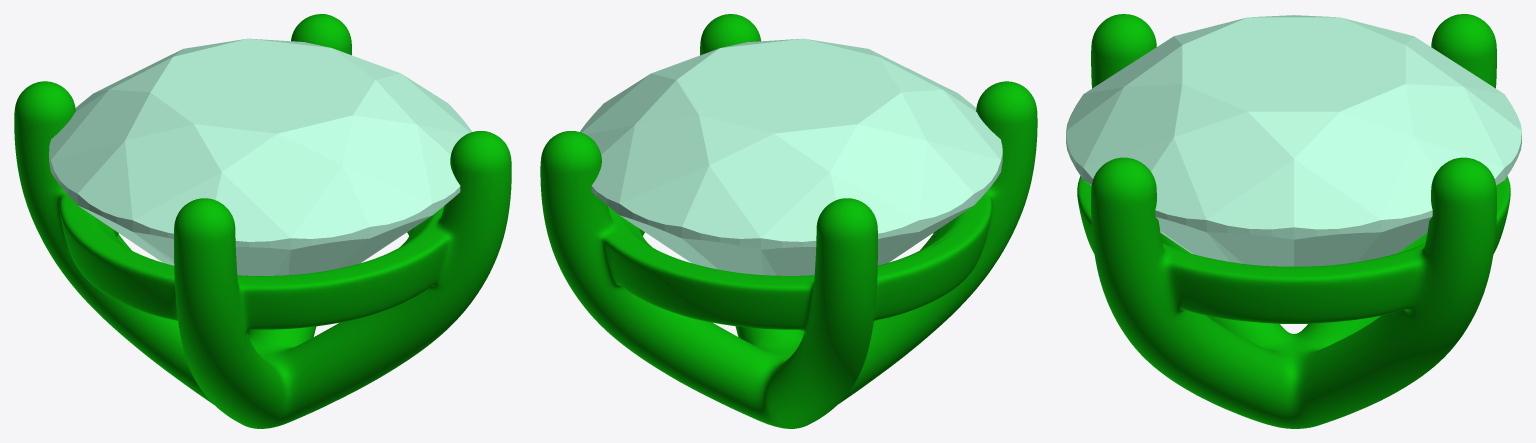
The picture shows the model from 3 angles, left to right: view 1: azimuth 30°, elevation 25°; view 2: azimuth 150°, elevation 25°; view 3: azimuth 270°, elevation 25°; orthographic projection. The views are drawn at different scales.
Visible parts, largest first — view 1: CS_Diamond, Metal01; view 2: CS_Diamond, Metal01; view 3: CS_Diamond, Metal01.
Boxes of the visible parts, x1,y1,x2,y2 form: CS_Diamond: (49, 38, 471, 275); Metal01: (14, 14, 511, 428); CS_Diamond: (580, 38, 1002, 275); Metal01: (540, 14, 1037, 428); CS_Diamond: (1066, 15, 1521, 266); Metal01: (1077, 14, 1510, 428).
Size of the model in its own units: 9.35 by 8.1 by 9.35.
